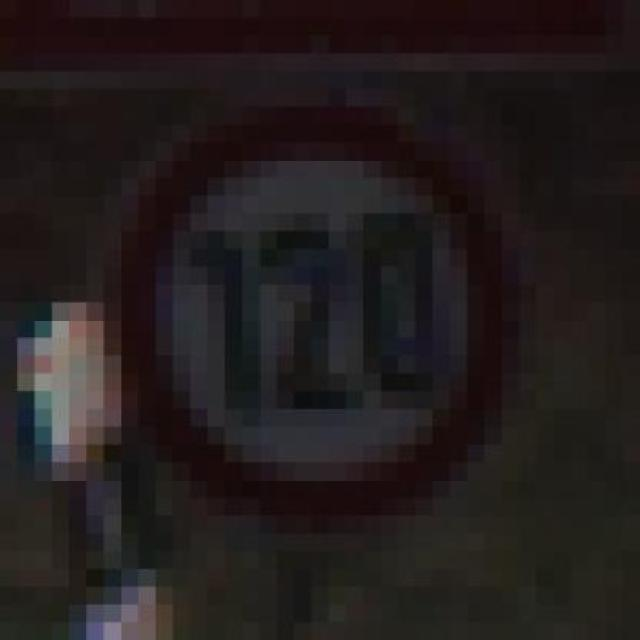forb_speed_over_120: (119, 100, 507, 512)
